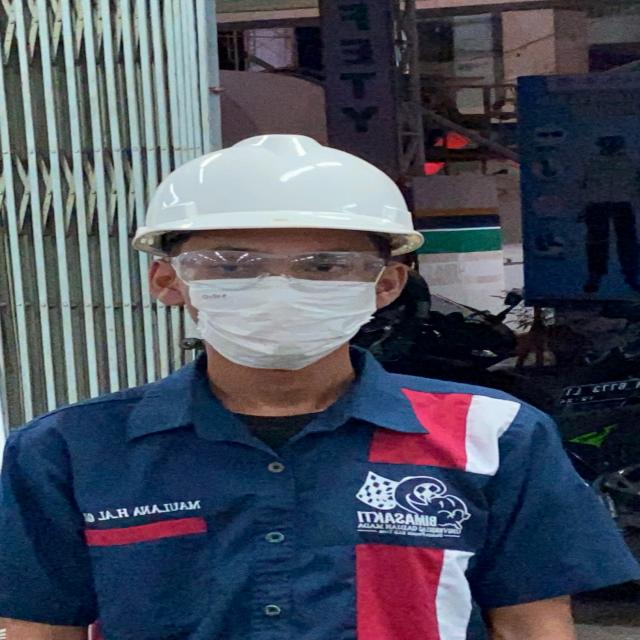face_mask: (158, 241, 394, 366)
glasses: (164, 246, 396, 291)
head_helmet: (121, 132, 432, 245)
person: (0, 127, 598, 640)
